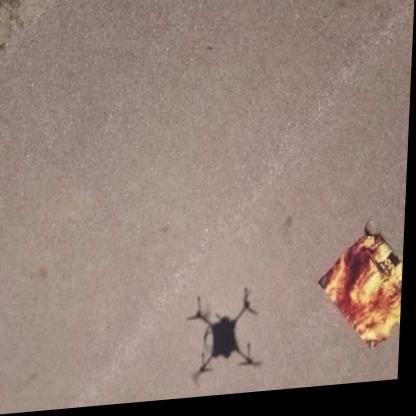fire-poster: (319, 226, 407, 363)
